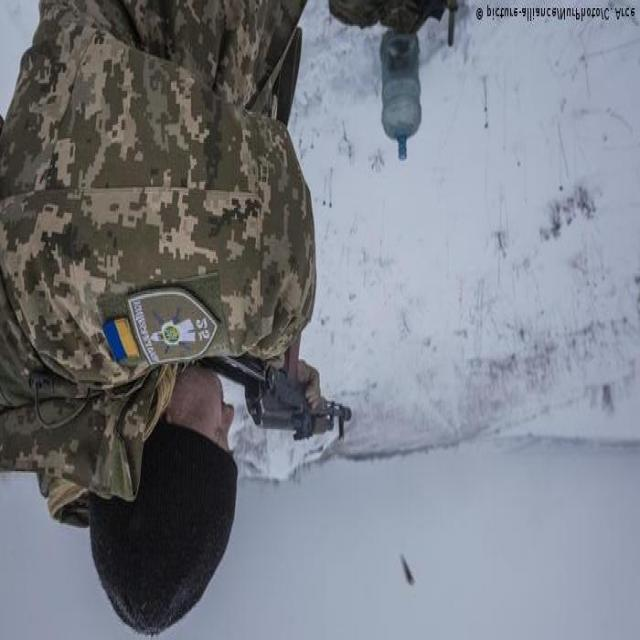weapon: (196, 336, 354, 444)
